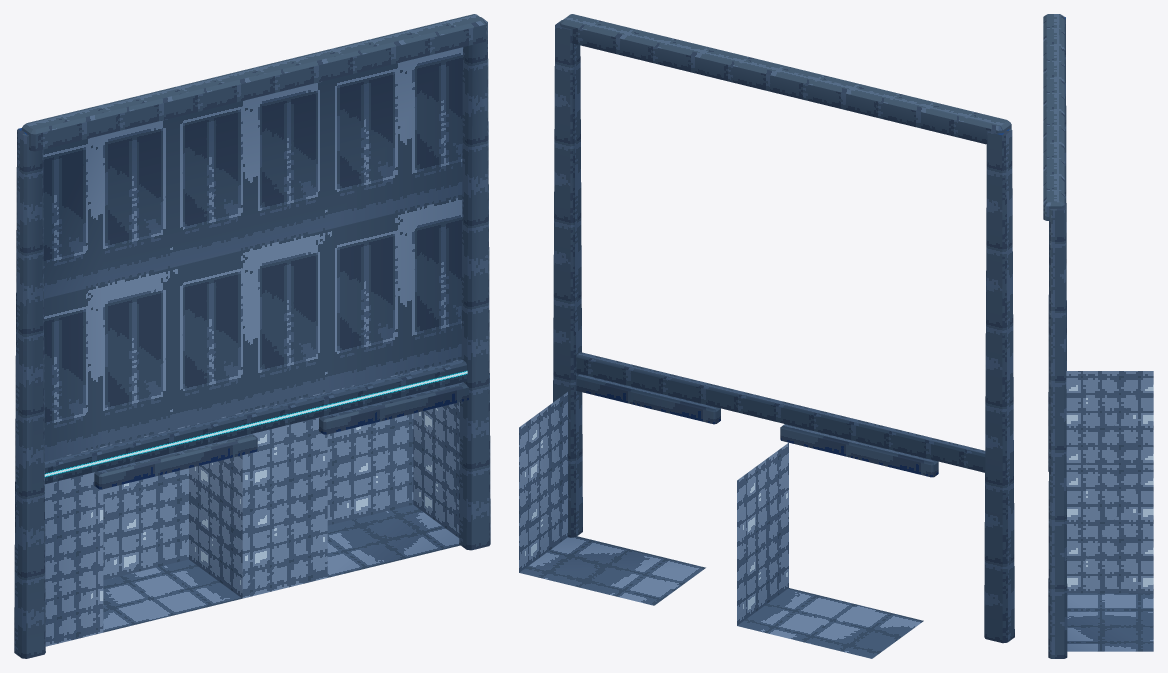
Rendered from cytower.facade__shops.glb.
The picture shows the model from 3 angles, left to right: view 1: azimuth 30°, elevation 25°; view 2: azimuth 150°, elevation 25°; view 3: azimuth 270°, elevation 25°; orthographic projection. The views are drawn at different scales.
Parts seen in each view (by area): view 1: kit_shell_front, kit_trim, kit_card_windows; view 2: kit_trim, kit_shell_front; view 3: kit_shell_front, kit_trim.
Part boxes in pixels (x1,y1,x2,y2): kit_shell_front: (43,47,462,646); kit_trim: (14,14,490,658); kit_card_windows: (44,370,467,477); kit_trim: (553,14,1014,643); kit_shell_front: (519,392,923,658); kit_shell_front: (1066,371,1153,651); kit_trim: (1043,14,1067,658).
Bounding box in the file's own units: 12.12 × 13.05 × 2.88.
8 materials, 8 textured.
